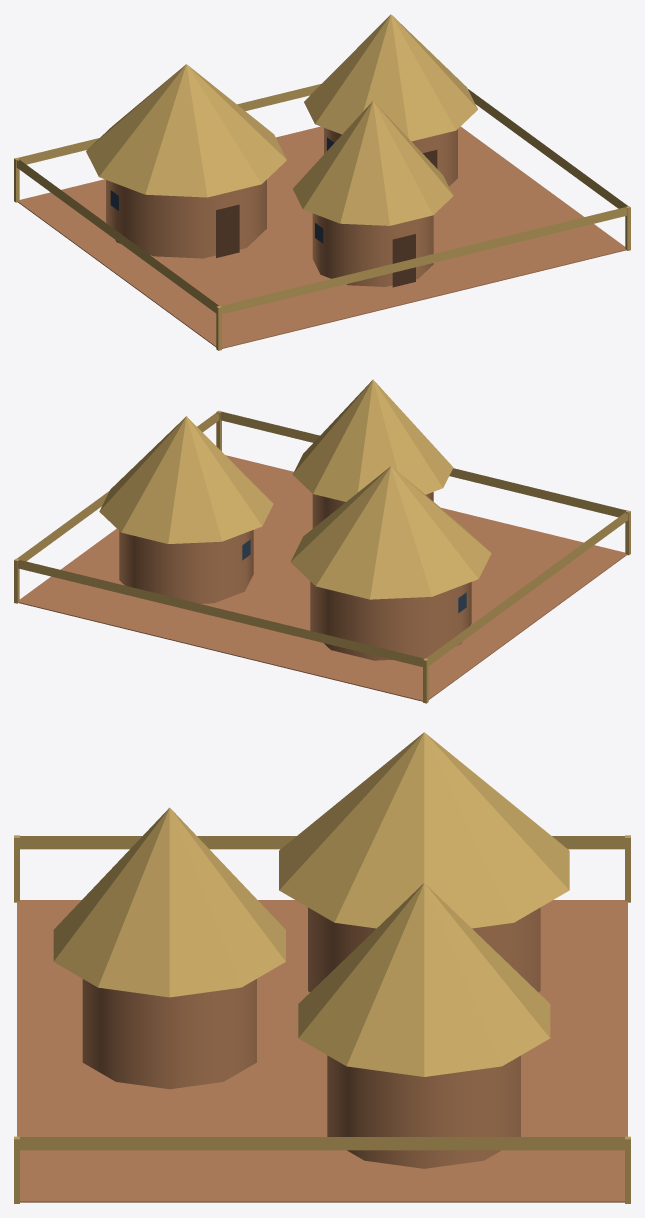
File: cases_rondes.glb
The picture shows the model from 3 angles, top to bottom: view 1: azimuth 30°, elevation 25°; view 2: azimuth 150°, elevation 25°; view 3: azimuth 270°, elevation 25°; orthographic projection. The views are drawn at different scales.
Visible parts, largest first — view 1: cases_rondes; view 2: cases_rondes; view 3: cases_rondes.
Part boxes in pixels (x1,y1,x2,y2): cases_rondes: (14,14,630,350); cases_rondes: (14,379,630,703); cases_rondes: (14,732,630,1203).
Size of the model in its own units: 14.12 by 5.3 by 12.12.
Materials: 1 (1 with a texture image).
